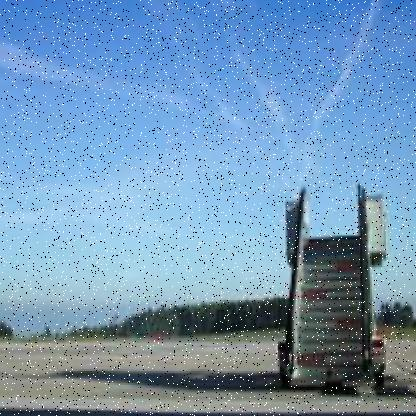stair_up: (290, 232, 378, 361)
